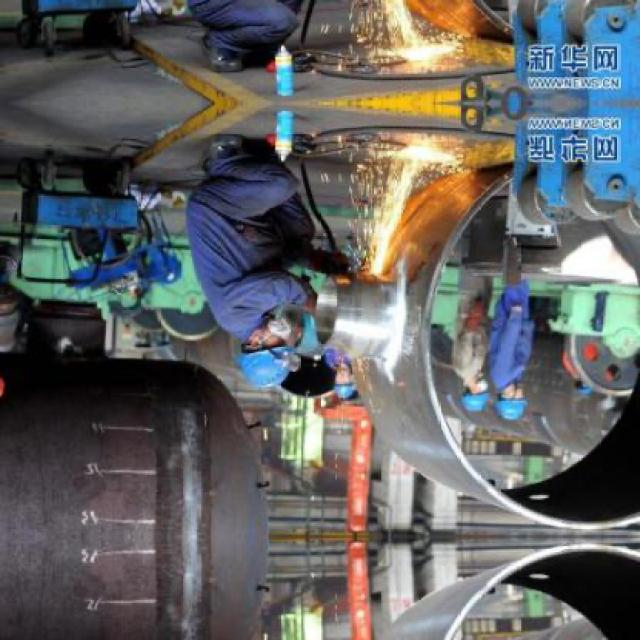con casco: (235, 333, 310, 402), (464, 372, 543, 412), (314, 382, 384, 406)
